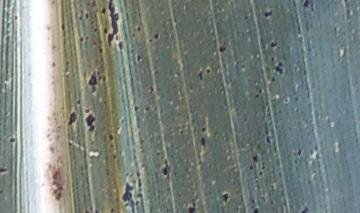tarspot: (105, 1, 122, 45), (85, 68, 108, 93), (121, 181, 136, 212), (158, 156, 176, 181), (86, 113, 100, 138), (65, 109, 78, 127), (213, 42, 229, 55), (184, 200, 199, 213), (219, 190, 232, 204), (57, 21, 69, 36), (197, 135, 209, 150), (261, 8, 275, 20), (196, 66, 206, 82), (261, 133, 274, 145), (274, 64, 286, 77), (299, 1, 316, 10), (97, 3, 107, 18), (266, 38, 278, 50), (7, 133, 18, 146), (254, 180, 264, 194), (151, 29, 162, 41), (300, 201, 311, 213), (294, 145, 305, 157), (115, 39, 126, 51), (250, 151, 261, 163), (12, 10, 22, 23), (147, 83, 156, 97), (1, 163, 10, 176), (133, 23, 144, 33), (132, 52, 143, 62), (267, 52, 277, 63), (107, 202, 117, 213), (132, 102, 141, 114), (74, 96, 84, 106), (200, 123, 209, 134), (133, 169, 142, 180), (92, 25, 100, 37), (106, 131, 116, 140), (84, 9, 90, 24), (242, 12, 251, 22), (76, 35, 86, 44), (81, 204, 91, 213), (189, 116, 198, 126), (252, 92, 262, 101), (251, 205, 262, 213), (96, 46, 107, 54), (178, 127, 186, 138), (206, 64, 213, 76), (246, 163, 255, 172), (257, 86, 266, 95), (111, 152, 120, 161), (292, 95, 301, 104), (282, 96, 292, 104), (143, 103, 150, 114), (256, 171, 267, 178), (260, 163, 269, 171), (75, 13, 82, 22), (1, 184, 6, 196), (82, 107, 92, 113), (91, 208, 103, 213)
